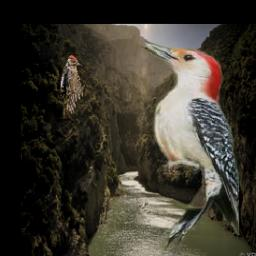Woodpecker: (136, 39, 240, 250), (61, 56, 86, 120)
